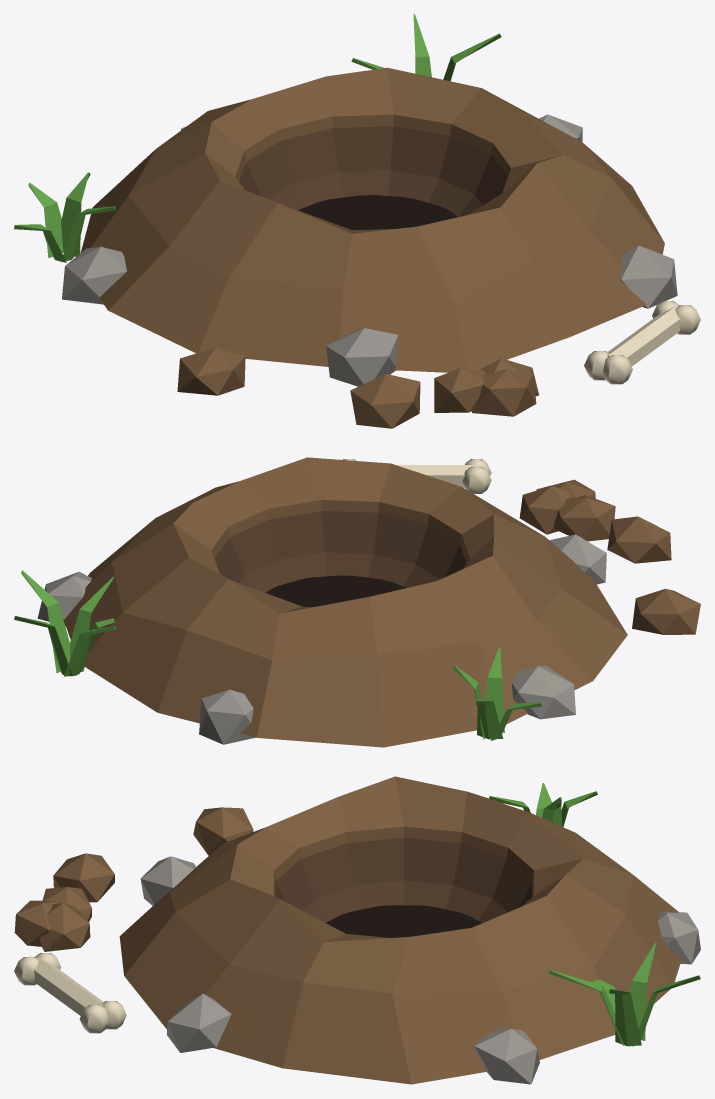
File: burrow.glb
3 renders of one model, top to bottom at view 1: azimuth 30°, elevation 25°; view 2: azimuth 150°, elevation 25°; view 3: azimuth 270°, elevation 25°, orthographic. The views are drawn at different scales.
Visible parts, largest first — view 1: Burrow_Dirt, Burrow_DirtDark, Burrow_Stones, Burrow_Grass, Burrow_Hole, Burrow_Bone; view 2: Burrow_Dirt, Burrow_DirtDark, Burrow_Stones, Burrow_Grass, Burrow_Hole, Burrow_Bone; view 3: Burrow_Dirt, Burrow_DirtDark, Burrow_Stones, Burrow_Grass, Burrow_Hole, Burrow_Bone.
Boxes of the visible parts, x1,y1,x2,y2 form: Burrow_Dirt: (80,67,664,428); Burrow_DirtDark: (239,126,507,216); Burrow_Stones: (62,114,677,386); Burrow_Grass: (14,14,501,262); Burrow_Hole: (298,195,457,230); Burrow_Bone: (584,301,700,384); Burrow_Dirt: (64,457,700,747); Burrow_DirtDark: (214,511,466,592); Burrow_Stones: (37,534,606,744); Burrow_Grass: (14,570,541,740); Burrow_Hole: (266,575,406,606); Burrow_Bone: (342,459,491,493); Burrow_Dirt: (14,776,681,1084); Burrow_DirtDark: (275,837,532,922); Burrow_Stones: (140,856,700,1084); Burrow_Grass: (489,783,700,1046); Burrow_Hole: (326,905,482,937); Burrow_Bone: (14,953,126,1033).
Bounding box in the file's own units: 5.14 × 1.06 × 5.77.
